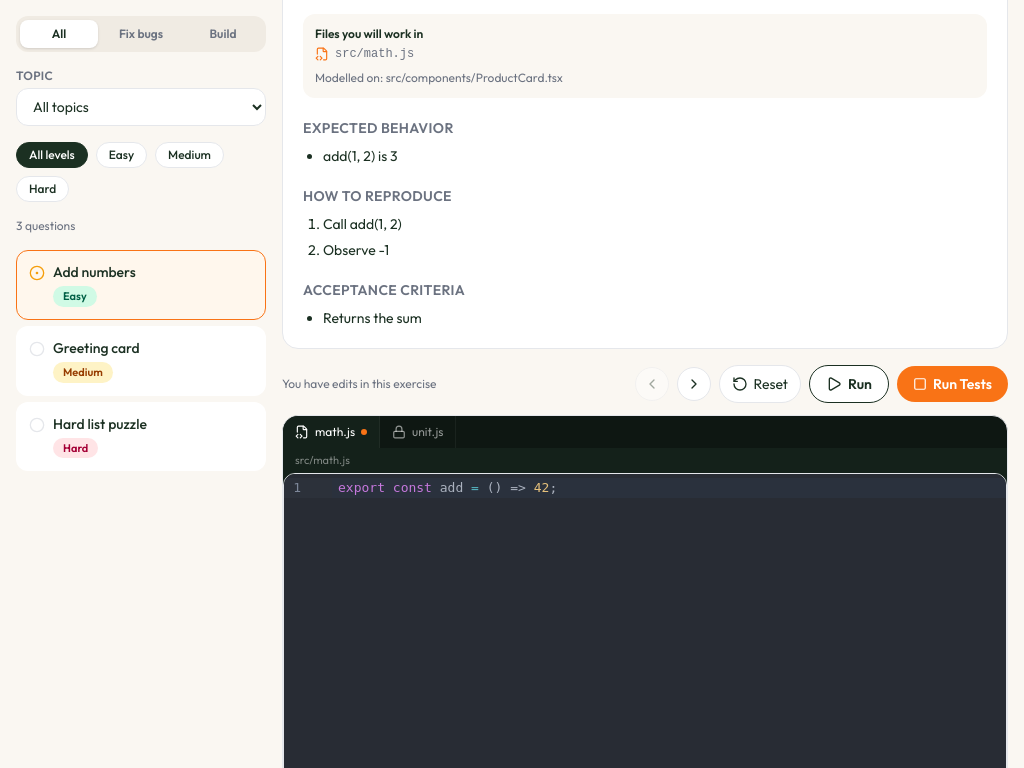
Test: filters and navigation › does not lose edits when navigating away and back, or after a reload
This screenshot has width=1024, height=768.
(page scrolled)
Click the button named "Next question": (694, 384) x1=676 y1=367 x2=710 y2=401
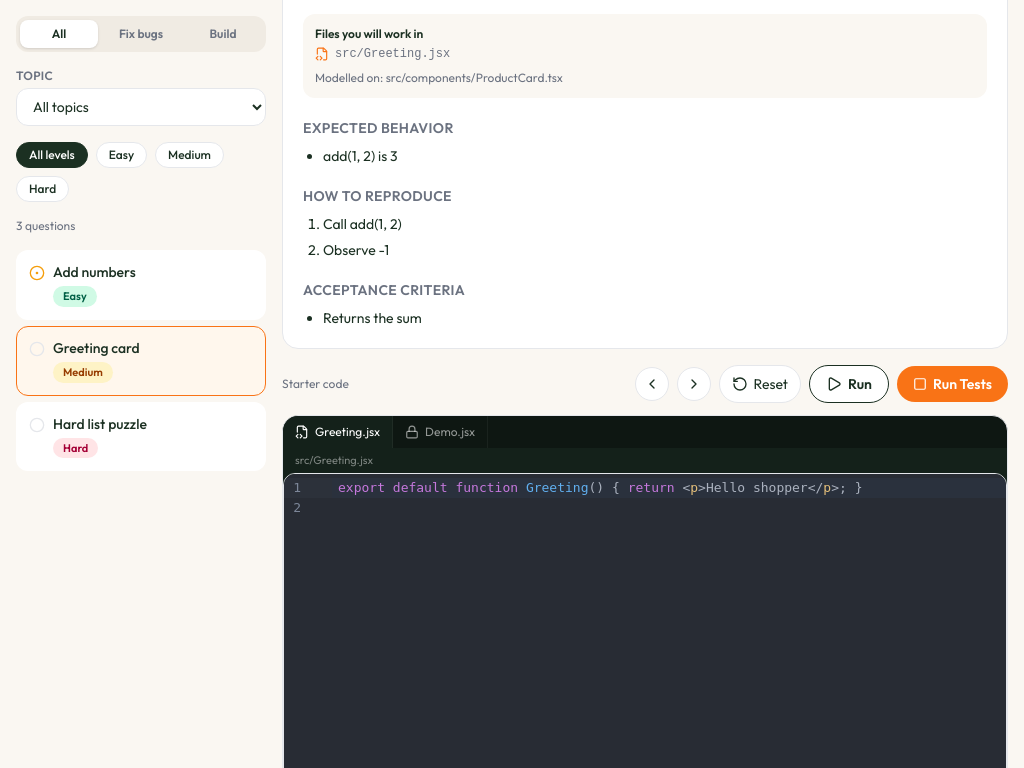
Click the button named "Previous question": (652, 384) x1=634 y1=367 x2=668 y2=401
(page scrolled)
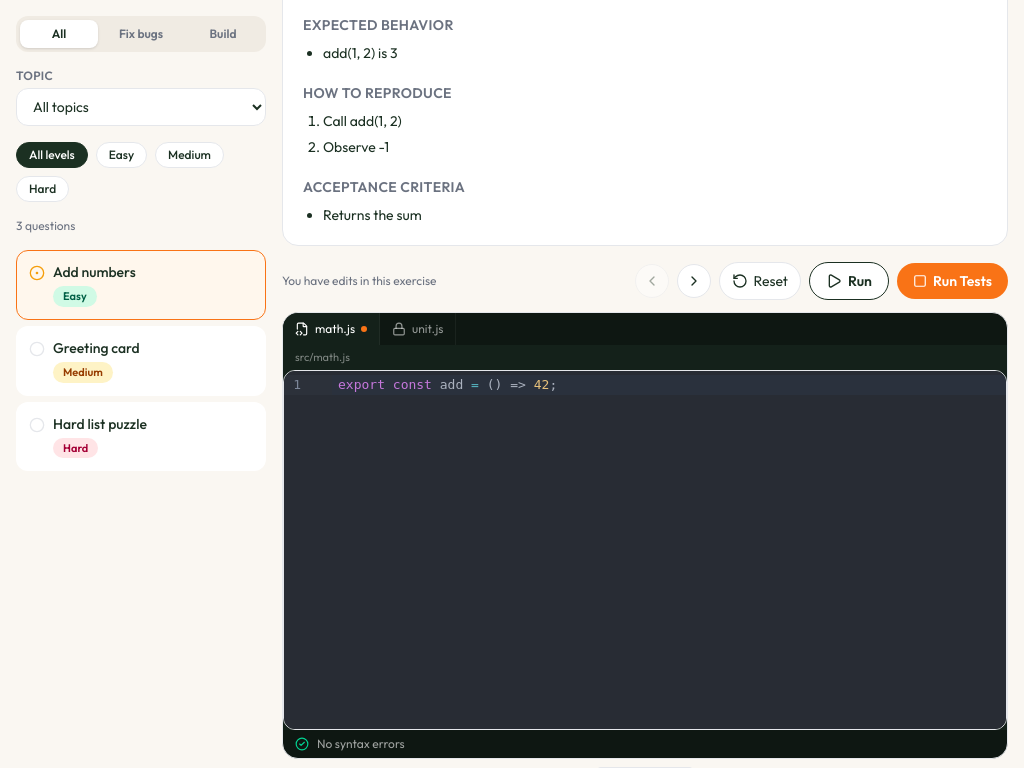
Check: the text box labelled "export const add = () => 42;" is shown, box x1=332 y1=375 x2=1006 y2=395
